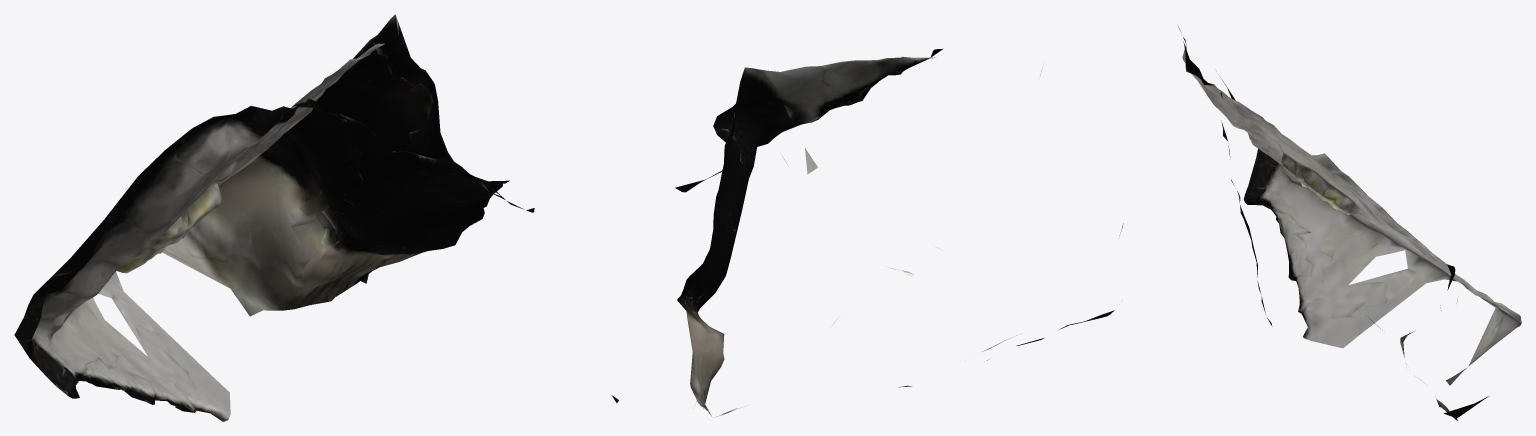
The model's file is hall.glb.
3 renders of one model, left to right at view 1: azimuth 30°, elevation 25°; view 2: azimuth 150°, elevation 25°; view 3: azimuth 270°, elevation 25°, orthographic. The views are drawn at different scales.
Bounding box in the file's own units: 0.7073 × 0.5174 × 0.5903.
Materials: 1 (1 with a texture image).
